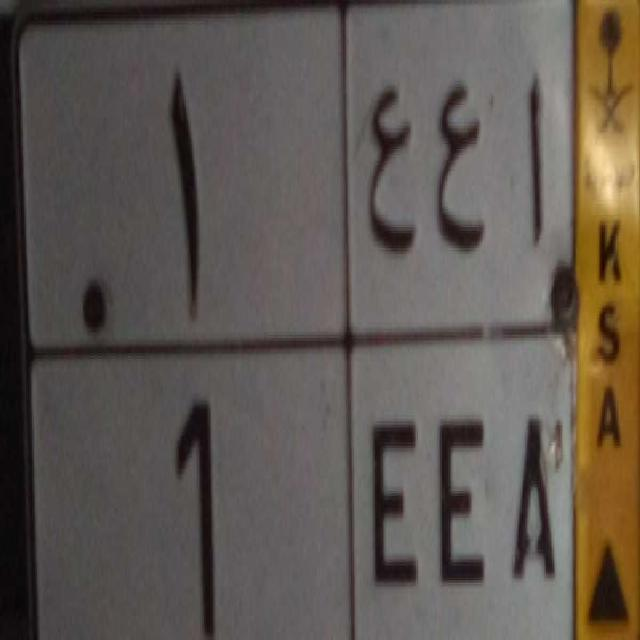license_plate: (31, 336, 574, 640)
